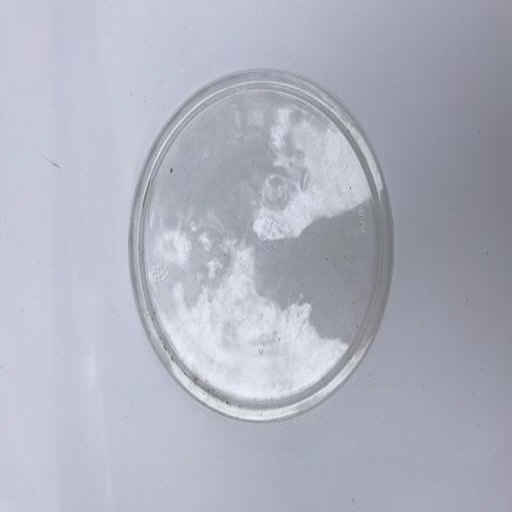Plastic_5: (125, 68, 395, 426)
